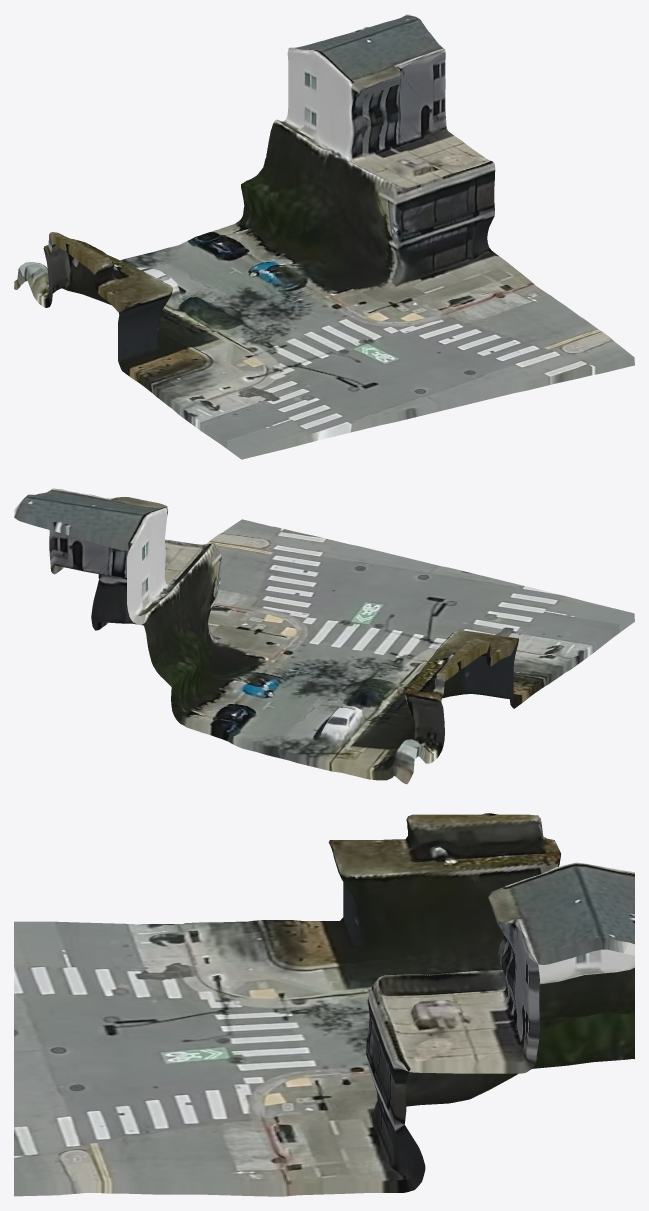
Rendered from z20-167780-405217-h0-yup-uvflip-v3-world.glb.
The picture shows the model from 3 angles, top to bottom: view 1: azimuth 30°, elevation 25°; view 2: azimuth 150°, elevation 25°; view 3: azimuth 270°, elevation 25°; orthographic projection. The views are drawn at different scales.
Size of the model in its own units: 30.24 by 14 by 30.32.
1 material, 1 textured.
